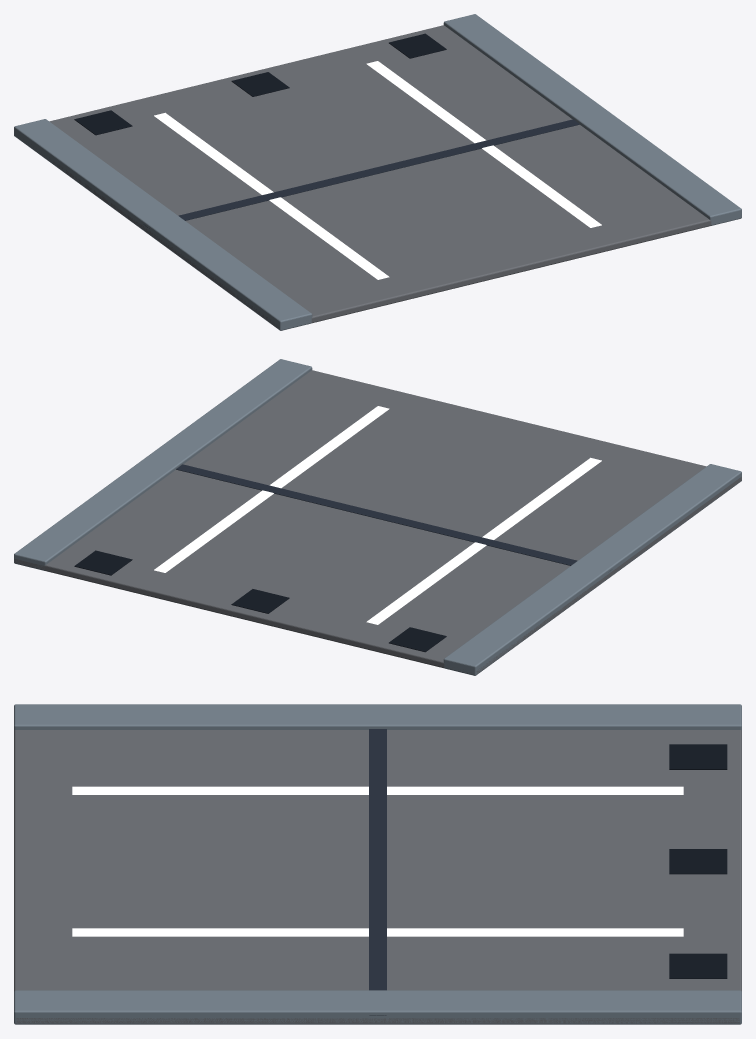
The model's file is road_hover_lane_marker_a_v01.glb.
The picture shows the model from 3 angles, top to bottom: view 1: azimuth 30°, elevation 25°; view 2: azimuth 150°, elevation 25°; view 3: azimuth 270°, elevation 25°; orthographic projection. The views are drawn at different scales.
Visible parts, largest first — view 1: component__surface_slab__surface_slab, component__curbs_or_edges__edge.001, component__curbs_or_edges__edge, component__connection_seams__connection_seam, component__lane_or_path_markings__marking, component__lane_or_path_markings__marking.001, component__drainage_detail__drainage.001, component__drainage_detail__drainage.002, component__drainage_detail__drainage; view 2: component__surface_slab__surface_slab, component__curbs_or_edges__edge.001, component__curbs_or_edges__edge, component__connection_seams__connection_seam, component__lane_or_path_markings__marking, component__lane_or_path_markings__marking.001, component__drainage_detail__drainage.002, component__drainage_detail__drainage, component__drainage_detail__drainage.001; view 3: component__surface_slab__surface_slab, component__curbs_or_edges__edge, component__curbs_or_edges__edge.001, component__lane_or_path_markings__marking.001, component__lane_or_path_markings__marking, component__connection_seams__connection_seam, component__drainage_detail__drainage.001, component__drainage_detail__drainage.002, component__drainage_detail__drainage.
Part boxes in pixels (x1,y1,x2,y2): component__surface_slab__surface_slab: (18, 25, 711, 329); component__curbs_or_edges__edge.001: (14, 119, 312, 330); component__curbs_or_edges__edge: (443, 14, 741, 225); component__connection_seams__connection_seam: (145, 119, 579, 228); component__lane_or_path_markings__marking: (366, 61, 601, 227); component__lane_or_path_markings__marking.001: (154, 112, 389, 279); component__drainage_detail__drainage.001: (74, 110, 132, 135); component__drainage_detail__drainage.002: (231, 72, 289, 96); component__drainage_detail__drainage: (389, 33, 446, 58); component__surface_slab__surface_slab: (14, 370, 741, 673); component__curbs_or_edges__edge.001: (443, 464, 741, 675); component__curbs_or_edges__edge: (14, 359, 312, 570); component__connection_seams__connection_seam: (176, 464, 610, 570); component__lane_or_path_markings__marking: (154, 406, 389, 572); component__lane_or_path_markings__marking.001: (366, 457, 601, 624); component__drainage_detail__drainage.002: (231, 589, 289, 613); component__drainage_detail__drainage: (74, 550, 132, 575); component__drainage_detail__drainage.001: (389, 627, 446, 652); component__surface_slab__surface_slab: (14, 730, 741, 1023); component__curbs_or_edges__edge: (14, 990, 741, 1024); component__curbs_or_edges__edge.001: (14, 704, 741, 730); component__lane_or_path_markings__marking.001: (72, 786, 683, 794); component__lane_or_path_markings__marking: (72, 928, 683, 936); component__connection_seams__connection_seam: (369, 729, 386, 1015); component__drainage_detail__drainage.001: (669, 744, 727, 769); component__drainage_detail__drainage.002: (669, 849, 727, 874); component__drainage_detail__drainage: (669, 953, 727, 978).
Bounding box in the file's own units: 10 × 0.21 × 10.
